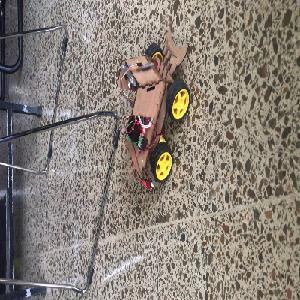Robot: (116, 22, 188, 185)
